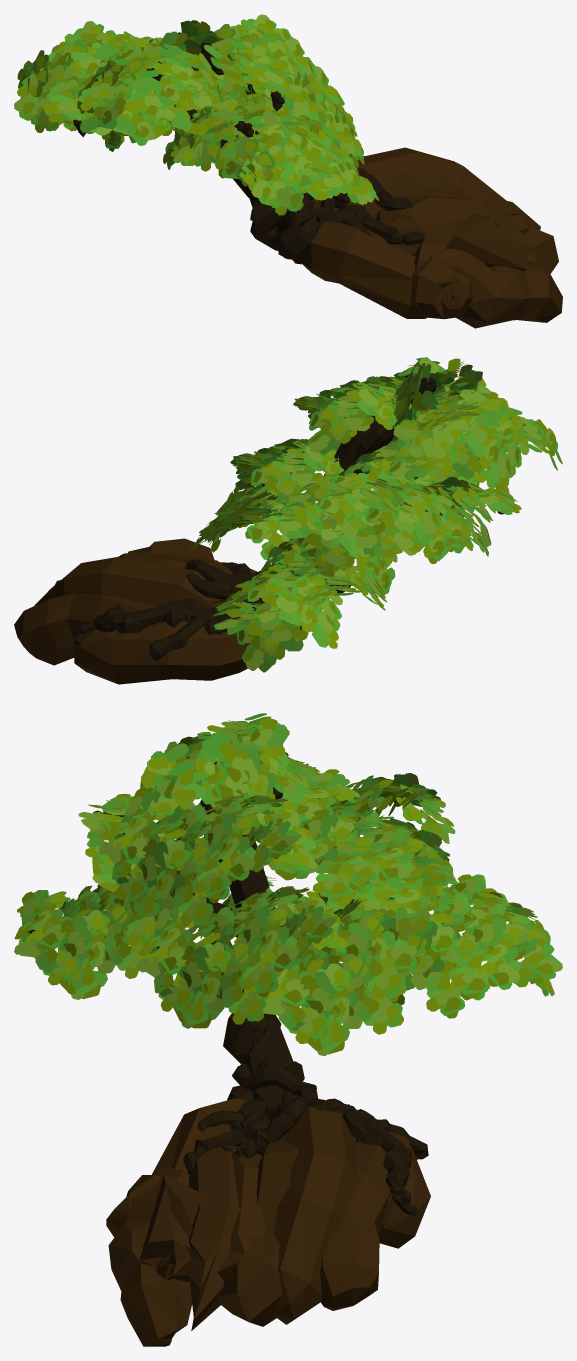
Rendered from LeahTree.fbx.
3 views of the same model, one above another, from view 1: azimuth 30°, elevation 25°; view 2: azimuth 150°, elevation 25°; view 3: azimuth 270°, elevation 25° (orthographic). The views are drawn at different scales.
Visible parts, largest first — view 1: Tree; view 2: Tree; view 3: Tree.
Boxes of the visible parts, <box> form: Tree: <box>14,14,562,328</box>; Tree: <box>14,357,562,684</box>; Tree: <box>14,713,562,1346</box>.
Size of the model in its own units: 5.86 by 4.17 by 4.93.
